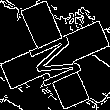M_NE: (22, 23, 88, 87)
